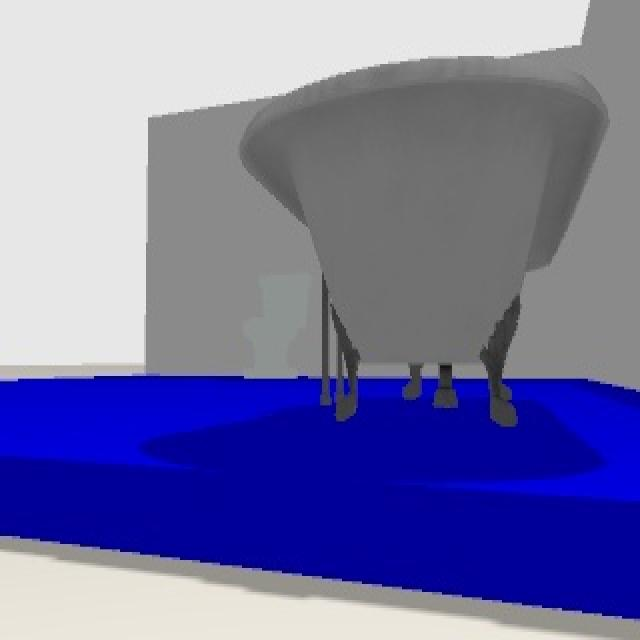bathtub: (238, 56, 612, 429)
